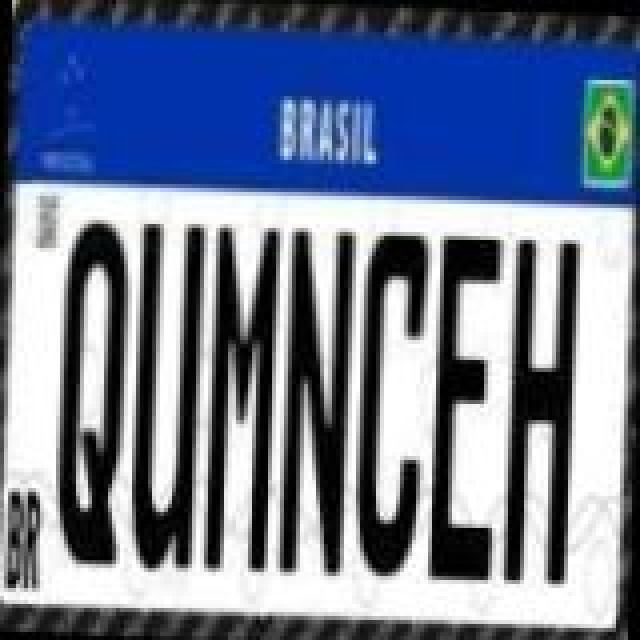C: (352, 228, 432, 580)
E: (428, 234, 508, 582)
H: (500, 232, 580, 584)
M: (204, 224, 284, 576)
N: (276, 226, 356, 578)
Q: (50, 216, 134, 568)
U: (124, 218, 204, 570)
